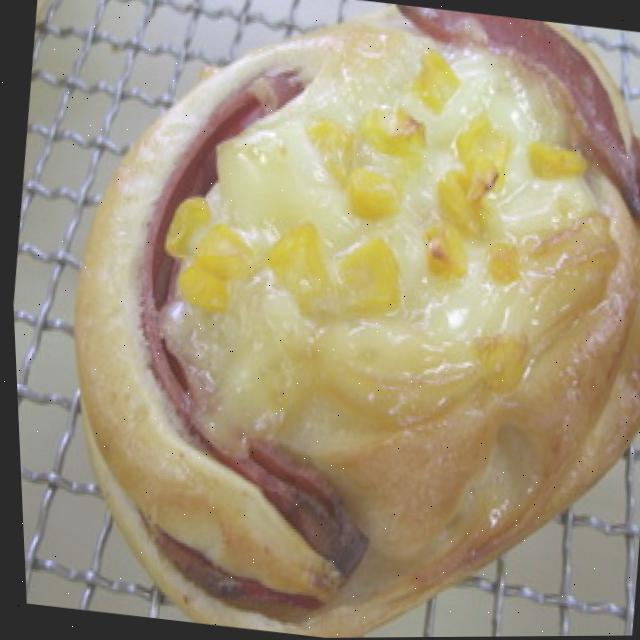三明治: (13, 0, 640, 640)
